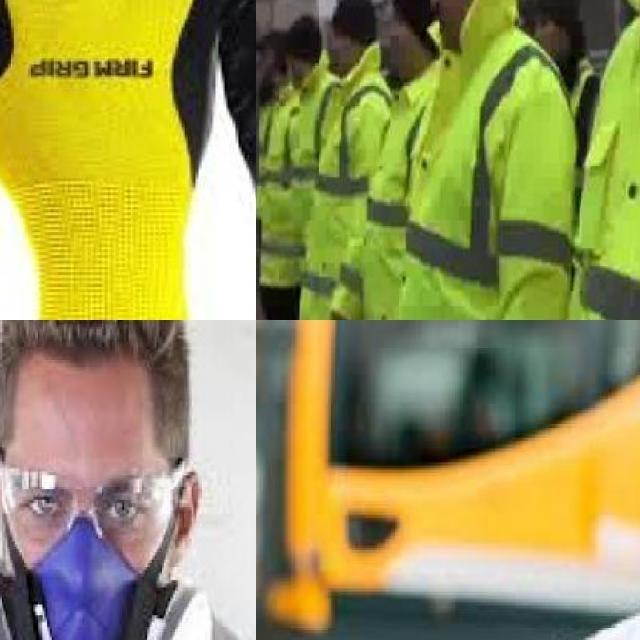apron: (0, 0, 220, 320)
